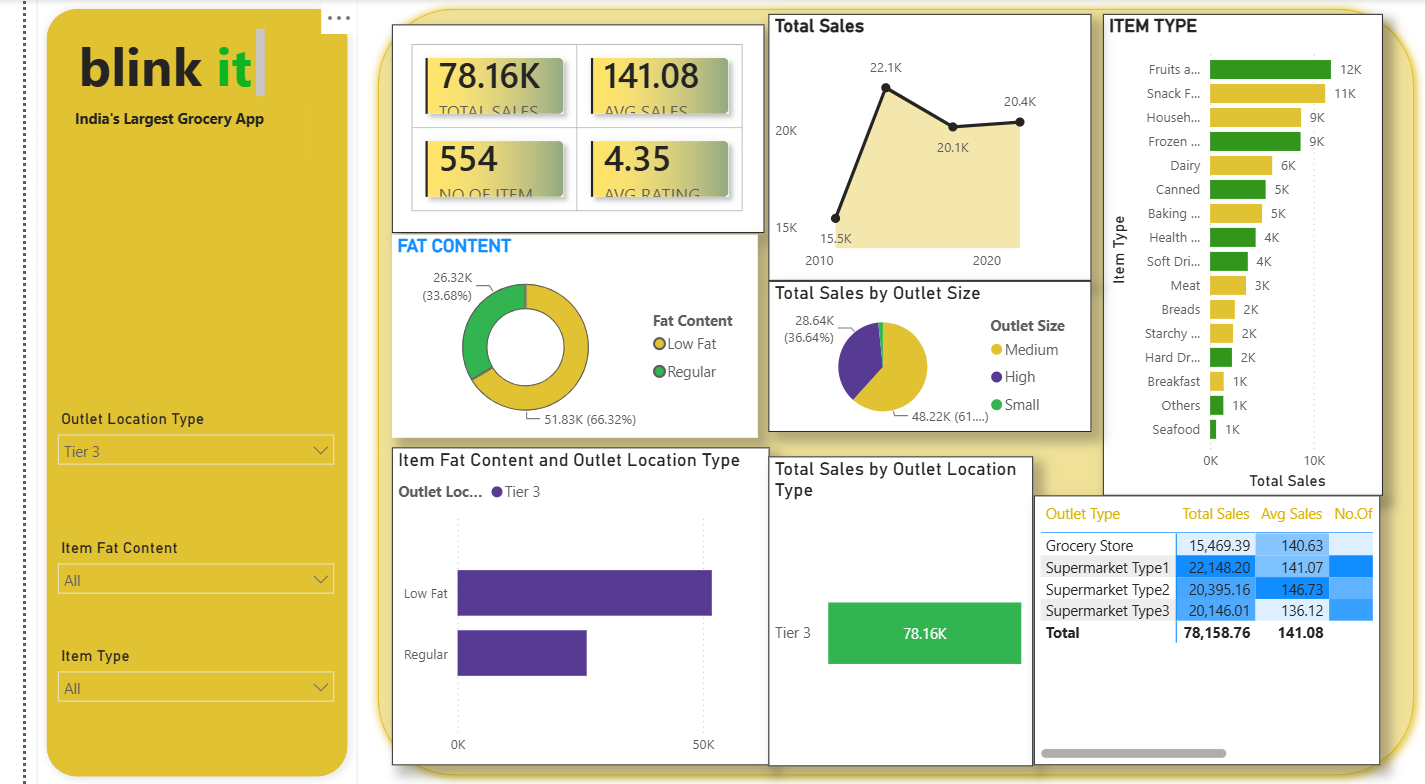

The dashboard page shown, as its layout file describes it:
{"tool":"powerbi","page":{"name":"Page 1","canvas":[1280,720],"ordinal":0},"visuals":[{"type":"shape","box":[9.6,0,293.7,720.5],"z":0},{"type":"textbox","box":[39.8,22,183.9,72.7],"z":1000},{"type":"textbox","box":[39.8,94.7,218.2,54.9],"z":2000},{"type":"shape","box":[313.4,0,966.1,719.2],"z":3000},{"type":"cardVisual","fields":{"Data":["BlinkIT Grocery Data.Total Sales","BlinkIT Grocery Data.Avg Sales","BlinkIT Grocery Data.No.Of item sold","BlinkIT Grocery Data.Avg Rating"]},"box":[334.6,22.7,340.7,190.8],"z":4000},{"type":"donutChart","title":"FAT CONTENT","fields":{"Y":["BlinkIT Grocery Data.Total Sales"],"Category":["BlinkIT Grocery Data.Item Fat Content"]},"box":[334.6,215,334.6,186.2],"z":5000},{"type":"clusteredBarChart","title":"ITEM TYPE ","fields":{"Y":["BlinkIT Grocery Data.Total Sales"],"Category":["BlinkIT Grocery Data.Item Type"]},"box":[985.7,13.6,255.9,440.6],"z":6000},{"type":"clusteredBarChart","title":" Item Fat Content and Outlet Location Type","fields":{"Category":["BlinkIT Grocery Data.Item Fat Content"],"Series":["BlinkIT Grocery Data.Outlet Location Type"],"Y":["BlinkIT Grocery Data.Total Sales"]},"box":[334.6,410.3,345.2,290.7],"z":7000},{"type":"lineChart","title":"Total Sales ","fields":{"Y":["BlinkIT Grocery Data.Total Sales"],"Category":["BlinkIT Grocery Data.Outlet Establishment Year"]},"box":[679.3,13.7,295.1,244.3],"z":8000},{"type":"pieChart","fields":{"Y":["BlinkIT Grocery Data.Total Sales"],"Category":["BlinkIT Grocery Data.Outlet Size"]},"box":[679.9,257.4,295.3,137.8],"z":9000},{"type":"slicer","fields":{"Values":["BlinkIT Grocery Data.Outlet Location Type"]},"box":[19.7,371,272.6,101.5],"z":10000},{"type":"funnel","fields":{"Y":["BlinkIT Grocery Data.Total Sales"],"Category":["BlinkIT Grocery Data.Outlet Location Type"]},"box":[679.9,417.9,242.3,283.2],"z":11000},{"type":"slicer","fields":{"Values":["BlinkIT Grocery Data.Item Fat Content"]},"box":[19.7,489.1,272.6,80.3],"z":12000},{"type":"slicer","fields":{"Values":["BlinkIT Grocery Data.Item Type"]},"box":[19.7,587.5,272.6,72.7],"z":13000},{"type":"pivotTable","fields":{"Rows":["BlinkIT Grocery Data.Outlet Type"],"Values":["BlinkIT Grocery Data.Total Sales","BlinkIT Grocery Data.Avg Sales","BlinkIT Grocery Data.No.Of item sold","BlinkIT Grocery Data.Avg Rating"]},"box":[922.2,454.3,316.5,246.8],"z":14000}]}

Visuals, with their boxes in screenshot pixels (x1, y1, x2, y2), scaled from the page's 1280x720 canvas onto the 1425x784 screenshot:
shape: 11, 0, 338, 783
textbox: 44, 24, 249, 103
textbox: 44, 103, 287, 163
shape: 349, 0, 1424, 783
cardVisual - BlinkIT Grocery Data.Total Sales x BlinkIT Grocery Data.Avg Sales: 373, 25, 752, 232
"FAT CONTENT" donutChart: 373, 234, 745, 437
"ITEM TYPE " clusteredBarChart: 1097, 15, 1382, 495
" Item Fat Content and Outlet Location Type" clusteredBarChart: 373, 447, 757, 763
"Total Sales " lineChart: 756, 15, 1085, 281
pieChart - BlinkIT Grocery Data.Total Sales x BlinkIT Grocery Data.Outlet Size: 757, 280, 1086, 430
slicer - BlinkIT Grocery Data.Outlet Location Type: 22, 404, 325, 514
funnel - BlinkIT Grocery Data.Total Sales x BlinkIT Grocery Data.Outlet Location Type: 757, 455, 1027, 763
slicer - BlinkIT Grocery Data.Item Fat Content: 22, 533, 325, 620
slicer - BlinkIT Grocery Data.Item Type: 22, 640, 325, 719
pivotTable - BlinkIT Grocery Data.Outlet Type x BlinkIT Grocery Data.Total Sales: 1027, 495, 1379, 763
